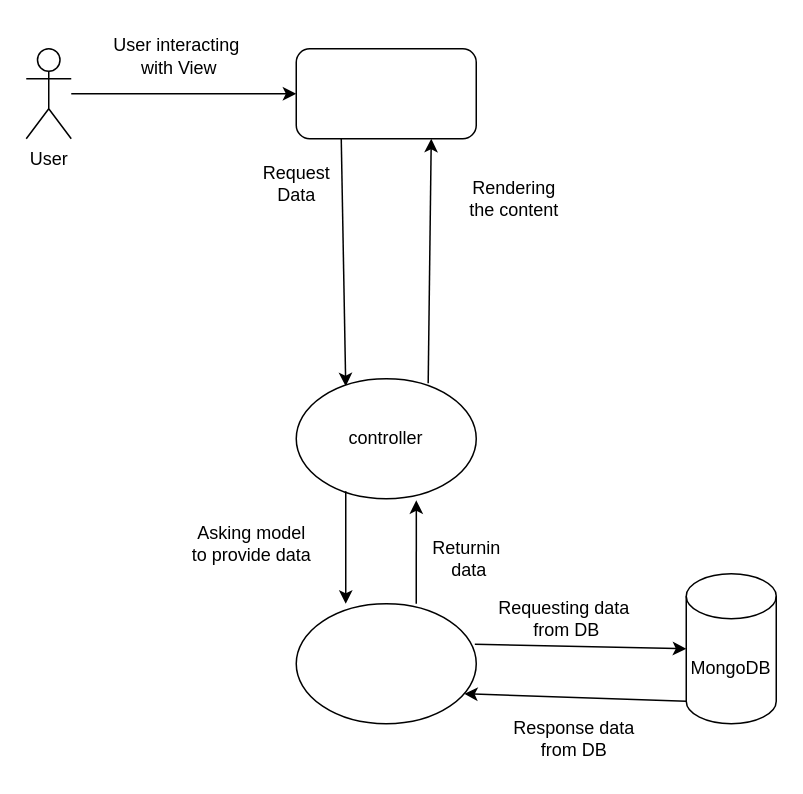
Image size: 803x794. Some labels were removed from this diagram. The centre of each missing label's shape, as x and y in pixels:
"model" goes at point (385, 663).
"view" goes at point (385, 93).
